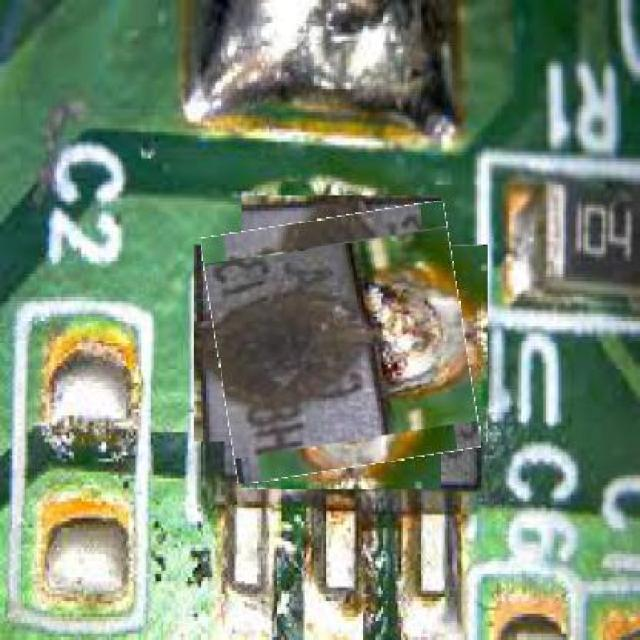Burn: (209, 210, 474, 476)
